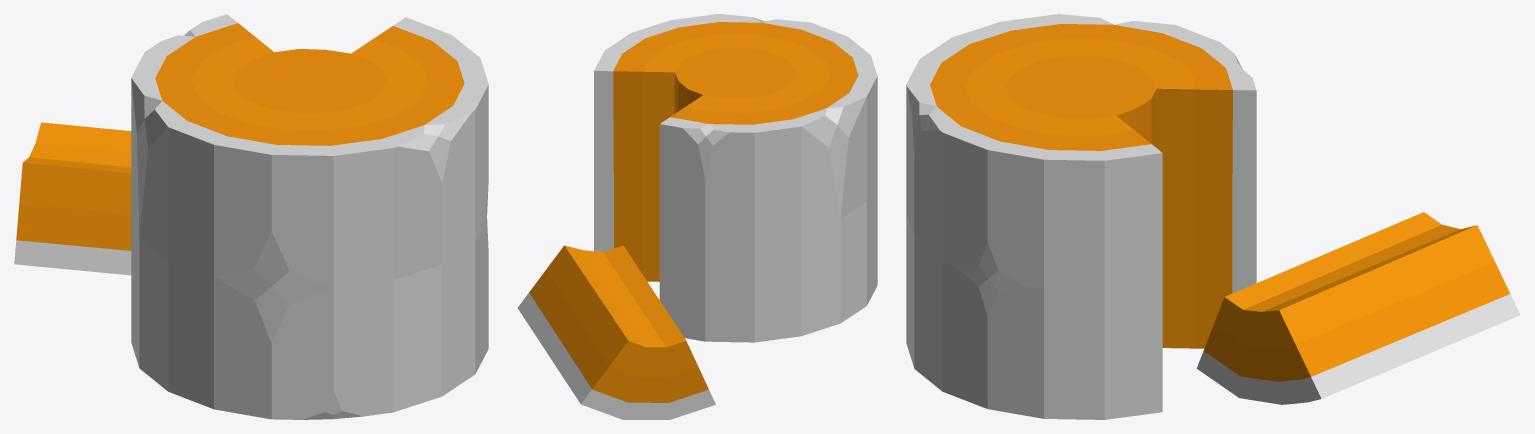
Rendered from Tree log_10.fbx.
3 views of the same model, side by side, from view 1: azimuth 30°, elevation 25°; view 2: azimuth 150°, elevation 25°; view 3: azimuth 270°, elevation 25° (orthographic). The views are drawn at different scales.
Visible parts, largest first — view 1: Circle.238, Circle.239; view 2: Circle.238, Circle.239; view 3: Circle.238, Circle.239.
Part boxes in pixels (x1,y1,x2,y2): Circle.238: [131, 14, 488, 419]; Circle.239: [14, 122, 131, 275]; Circle.238: [594, 14, 877, 342]; Circle.239: [517, 245, 715, 419]; Circle.238: [906, 14, 1256, 419]; Circle.239: [1196, 212, 1520, 404].
Size of the model in its own units: 23.35 by 20.33 by 41.28.
